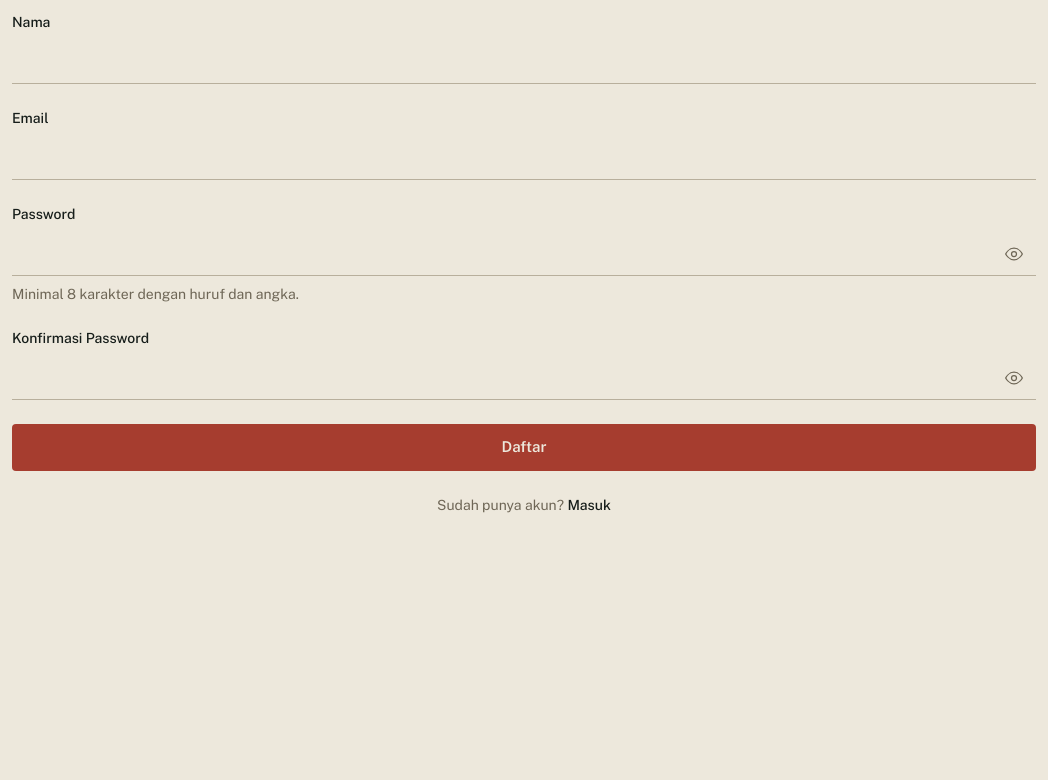
RegisterForm › shows EMAIL_ALREADY_EXISTS as general error
Type "Budi" into the field labelled "Nama" at (524, 62), box [12,40,1036,84]
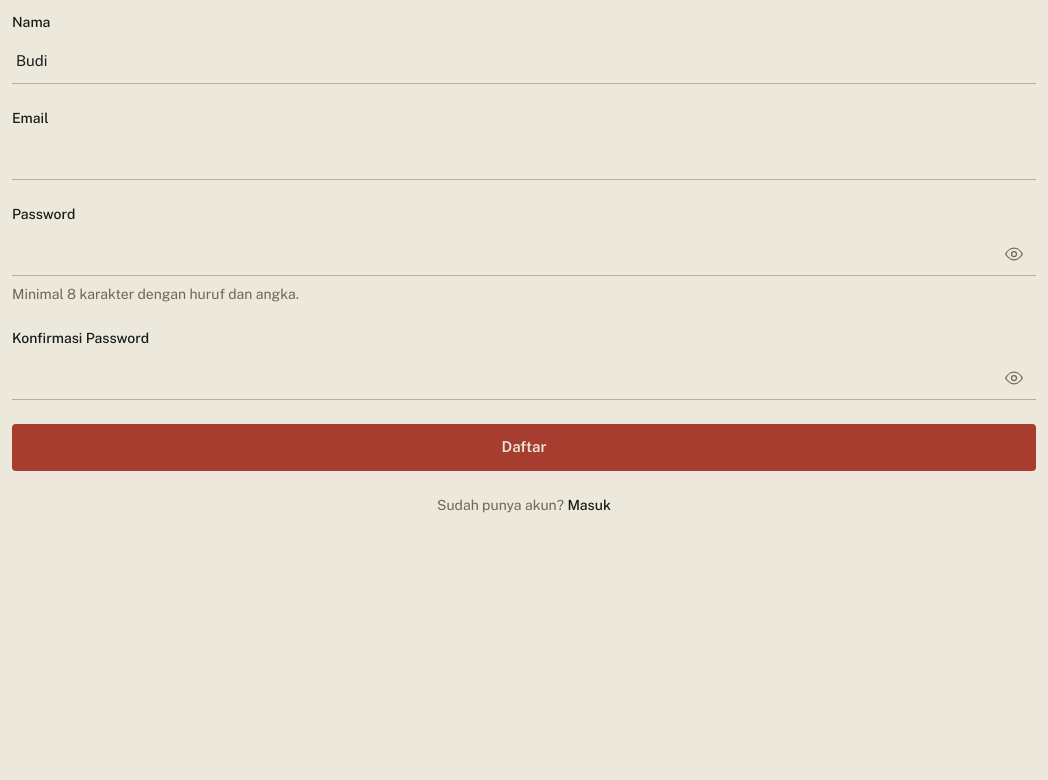
Type "a@b.com" into the field labelled "Email" at (524, 158), box [12,136,1036,180]
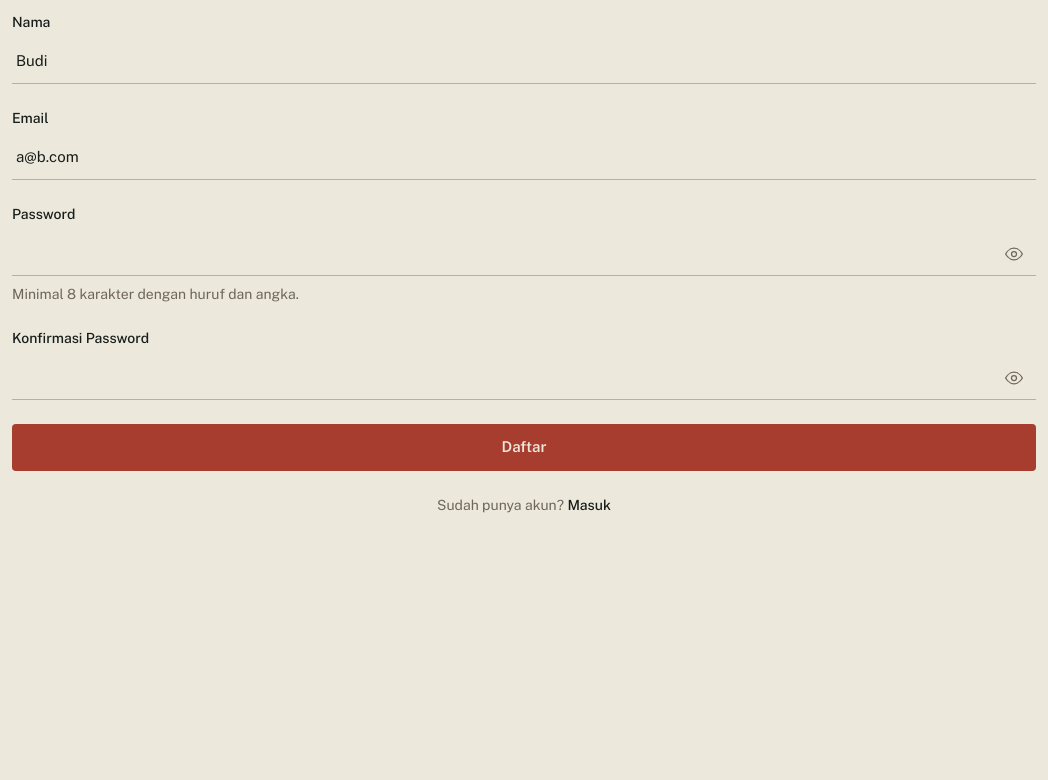
Type "Test1234" into the password field labelled "Password" at (524, 254), box [12,232,1036,276]
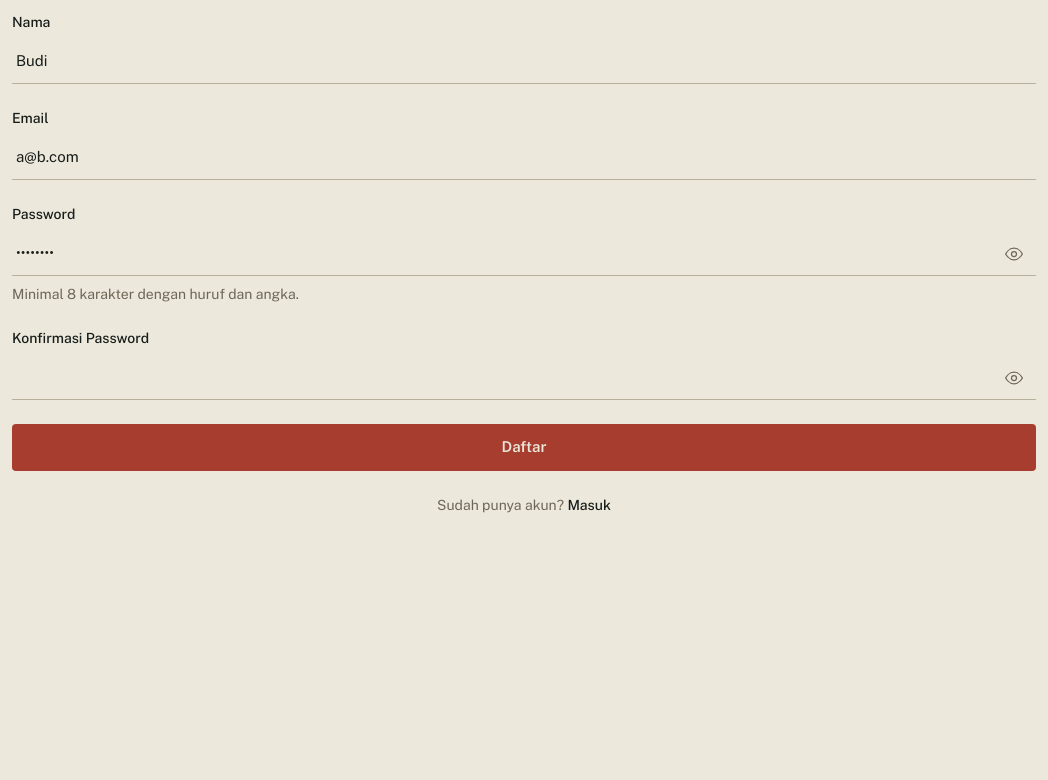
Type "Test1234" into the password field labelled "Konfirmasi Password" at (524, 378), box [12,356,1036,400]
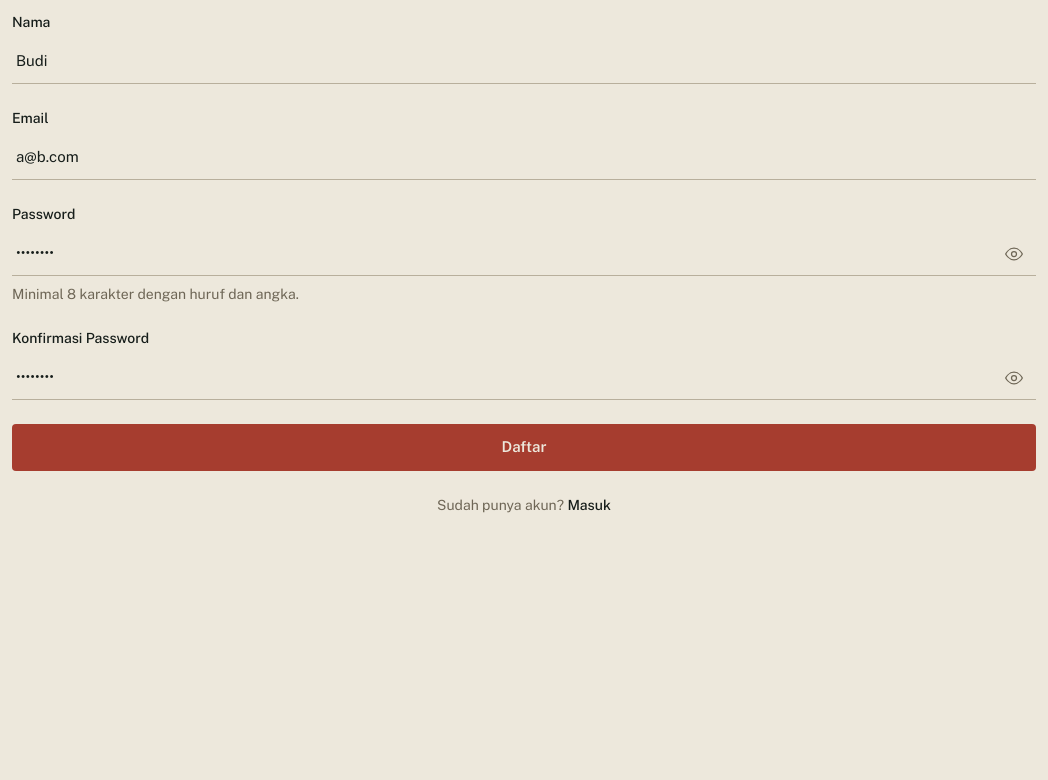
Click the button "Daftar" at (524, 447), box [12,424,1036,470]
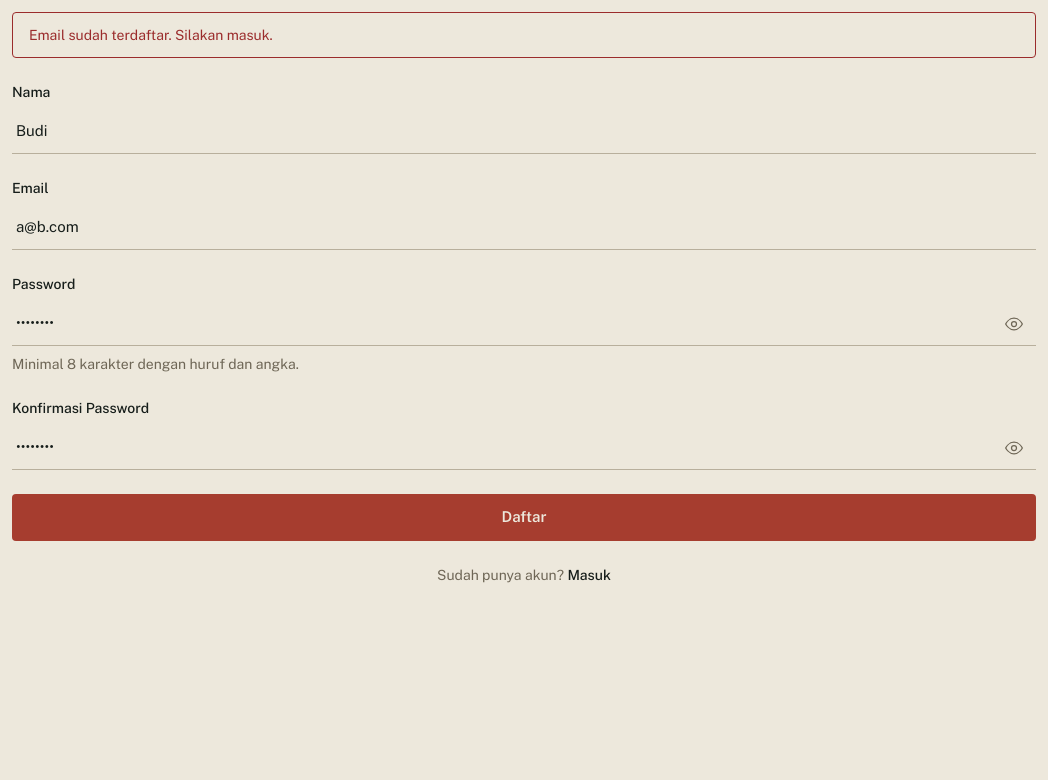
Expected: the text "Email sudah terdaftar. Silakan masuk." is shown, [12,12,1036,58]
